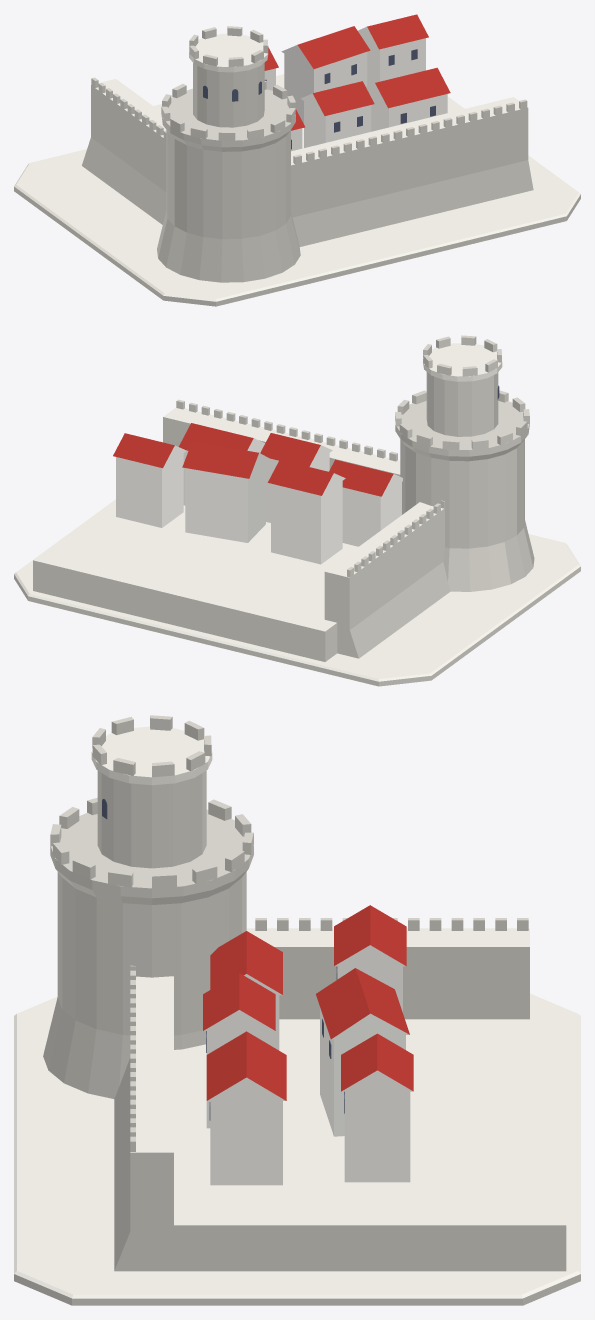
The model's file is dubrovnik.glb.
3 renders of one model, top to bottom at view 1: azimuth 30°, elevation 25°; view 2: azimuth 150°, elevation 25°; view 3: azimuth 270°, elevation 25°, orthographic. The views are drawn at different scales.
Parts seen in each view (by area): view 1: model; view 2: model; view 3: model.
Boxes of the visible parts, box(x1,y1,x2,y2) form: model: box(14, 14, 580, 306); model: box(14, 335, 580, 686); model: box(14, 715, 580, 1305).
Bounding box in the file's own units: 100 × 49.4 × 78.
